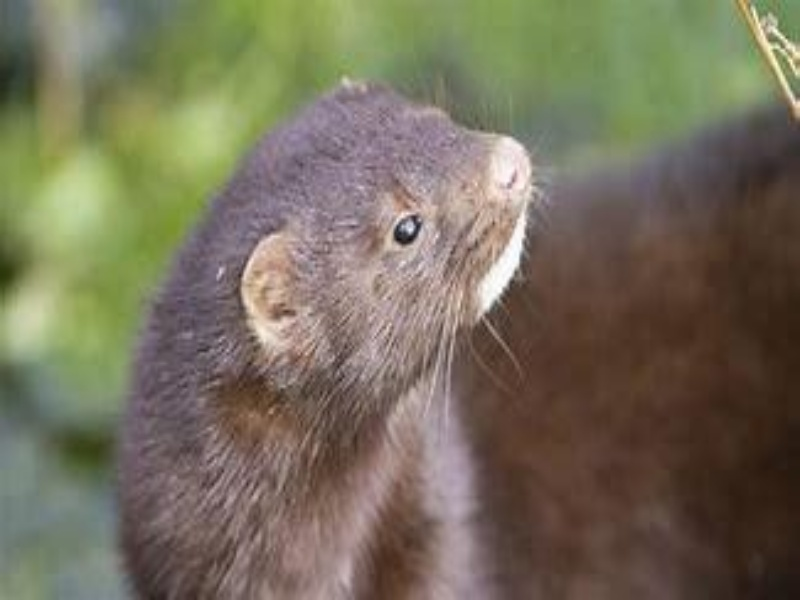minkish: (102, 67, 800, 595)
